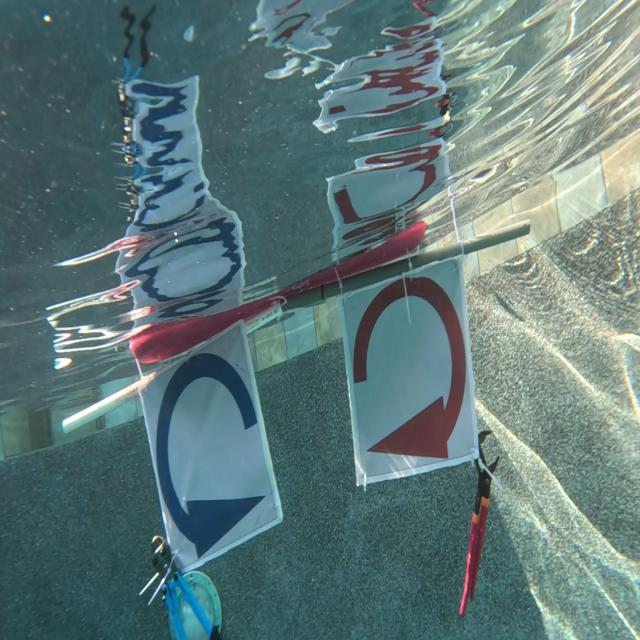blue_side: (135, 319, 285, 564)
red_side: (342, 257, 480, 480)
